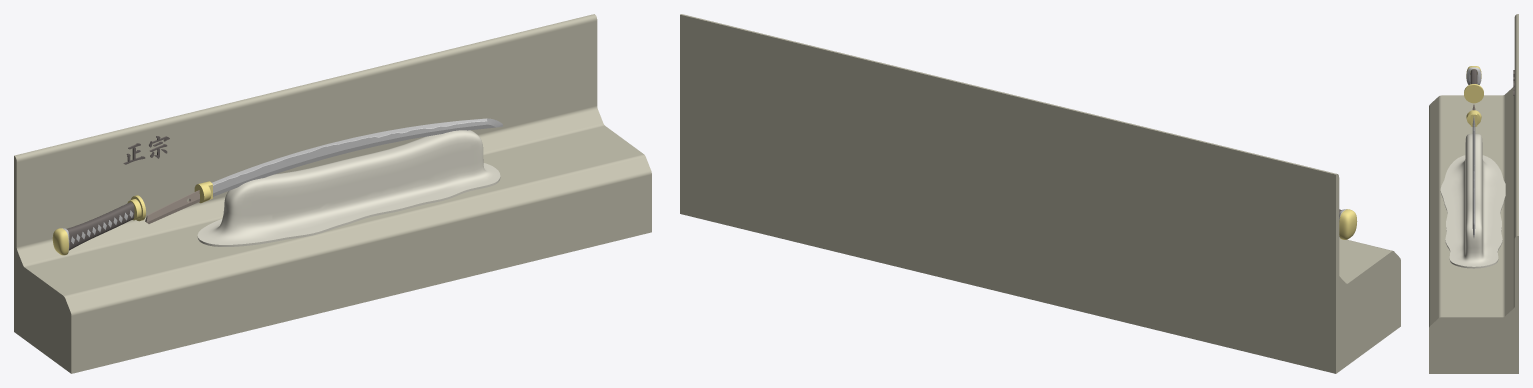
3 renders of one model, left to right at view 1: azimuth 30°, elevation 25°; view 2: azimuth 150°, elevation 25°; view 3: azimuth 270°, elevation 25°, orthographic. The views are drawn at different scales.
Visible parts, largest first — view 1: 012_masamune_sword; view 2: 012_masamune_sword; view 3: 012_masamune_sword.
Boxes of the visible parts, x1,y1,x2,y2 form: 012_masamune_sword: [14, 14, 651, 373]; 012_masamune_sword: [680, 14, 1400, 373]; 012_masamune_sword: [1429, 14, 1518, 373].
Bounding box in the file's own units: 0.1227 × 0.0356 × 0.021.
